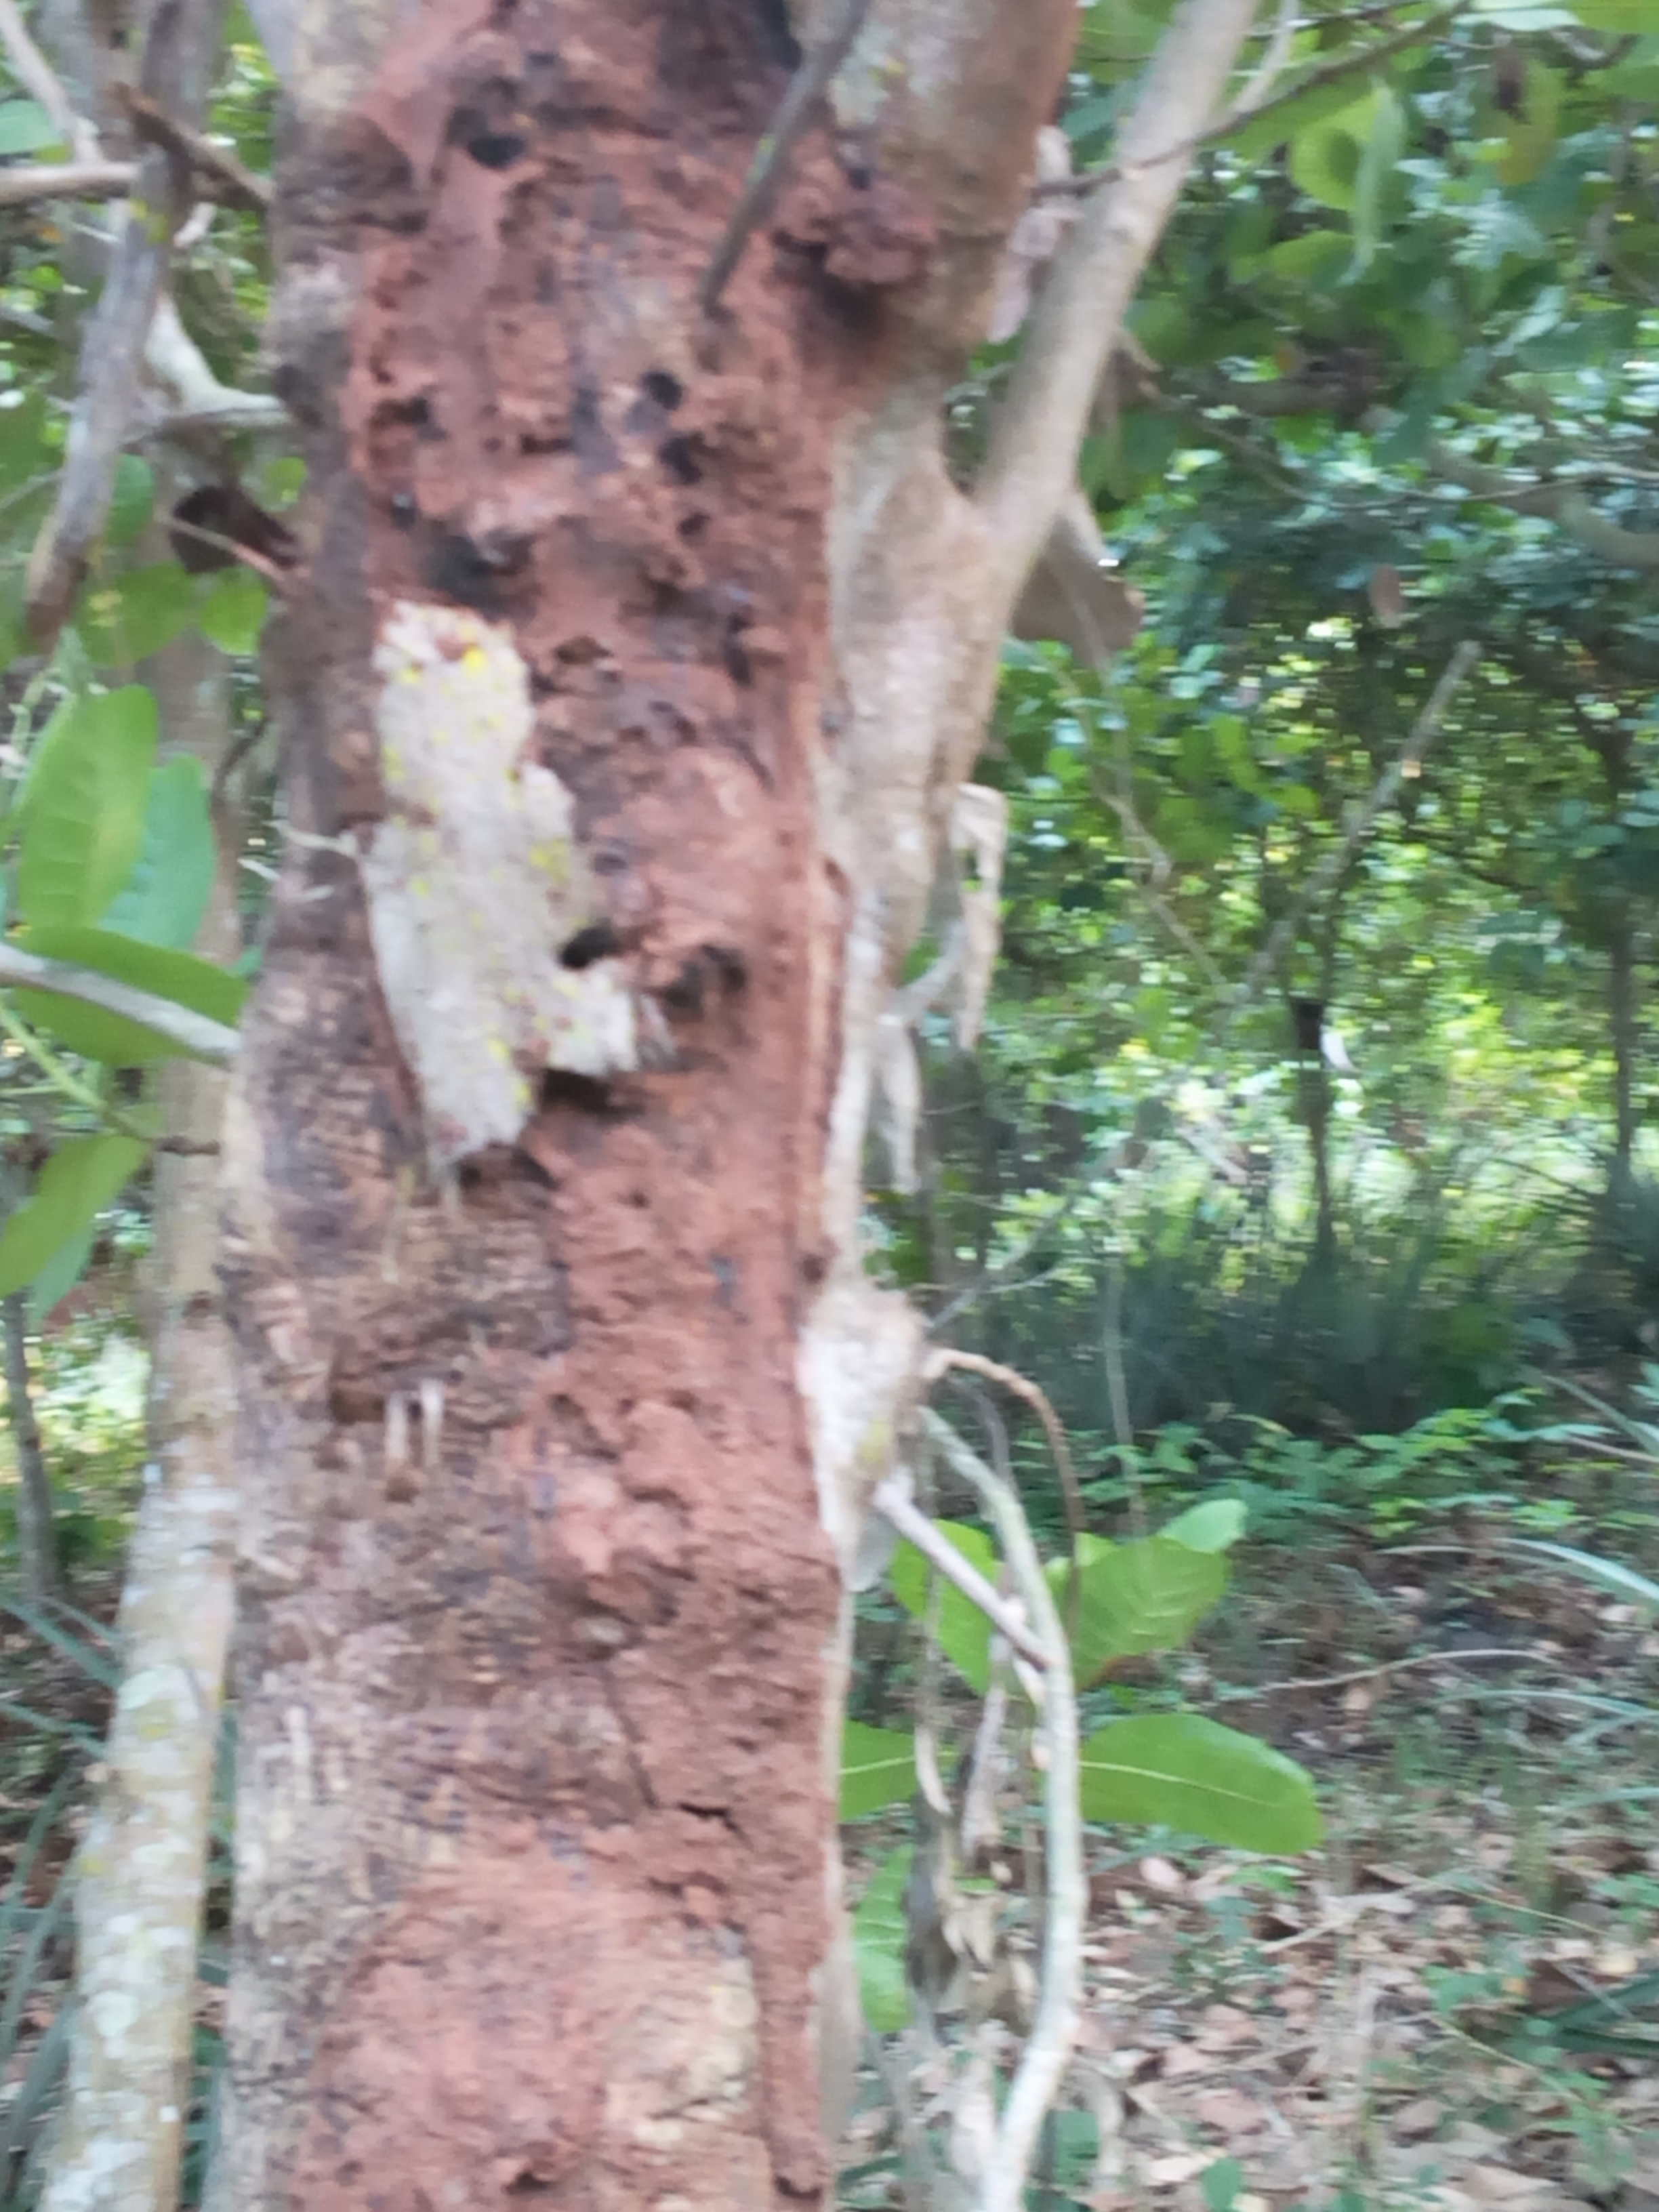Termites: (558, 357, 861, 2177), (362, 12, 901, 486)
